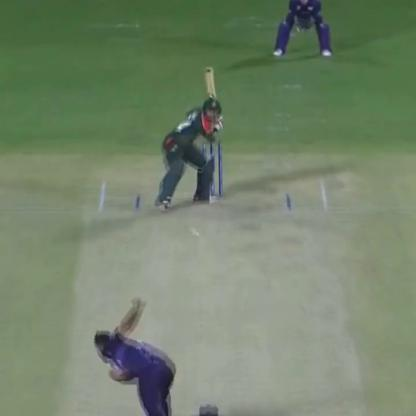ball: (193, 230, 200, 238), (188, 228, 197, 233)
bat: (196, 61, 226, 135)
pitch: (78, 171, 363, 416)
